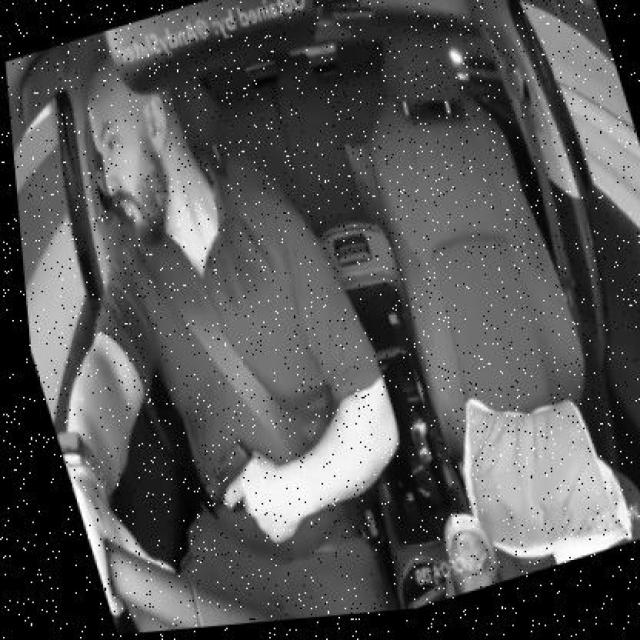weapon: (201, 435, 279, 522)
